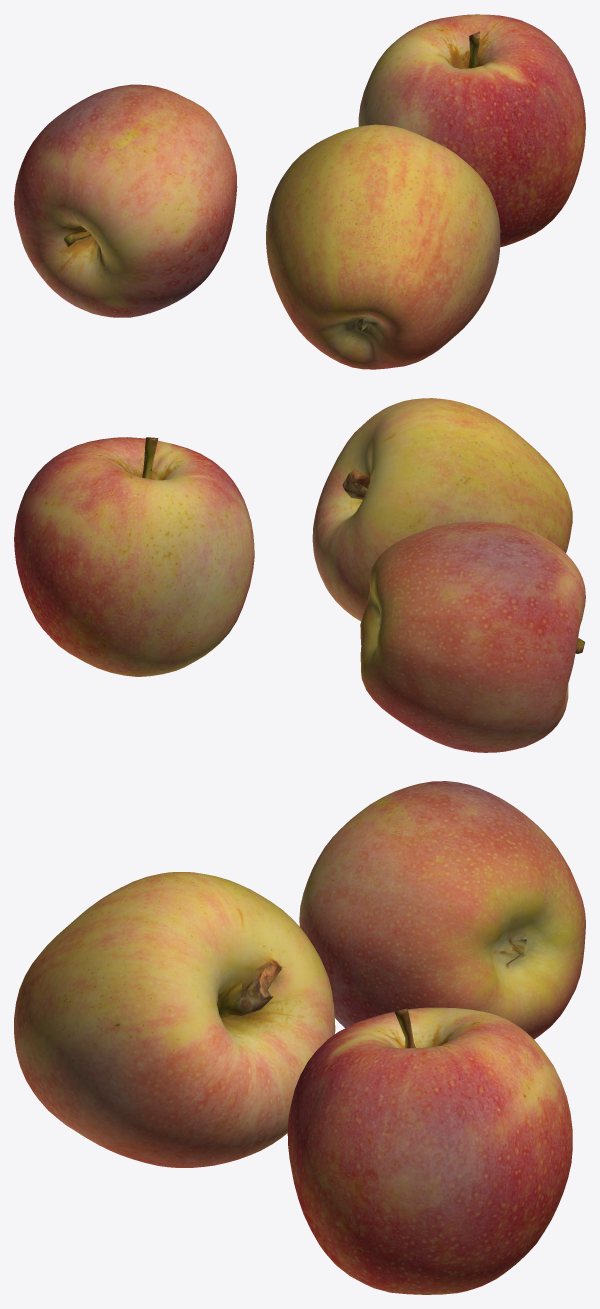
File: applesReveal.glb
The picture shows the model from 3 angles, top to bottom: view 1: azimuth 30°, elevation 25°; view 2: azimuth 150°, elevation 25°; view 3: azimuth 270°, elevation 25°; orthographic projection. The views are drawn at different scales.
Visible parts, largest first — view 1: Object_3; view 2: Object_3; view 3: Object_3.
Part boxes in pixels (bbox=[...]): Object_3: bbox=[14, 14, 585, 369]; Object_3: bbox=[14, 398, 585, 752]; Object_3: bbox=[14, 781, 585, 1294].
Bounding box in the file's own units: 0.2155 × 0.0821 × 0.158.
3 materials, 3 textured.
